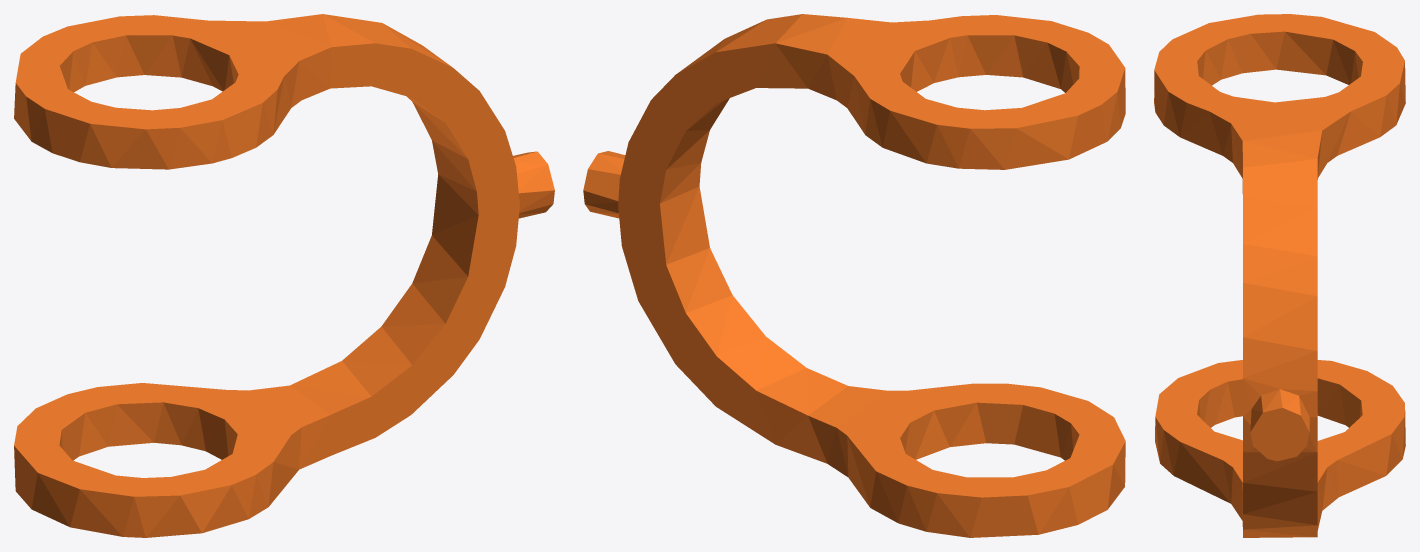
The model's file is fzz_Reduced.glb.
3 renders of one model, left to right at view 1: azimuth 30°, elevation 25°; view 2: azimuth 150°, elevation 25°; view 3: azimuth 270°, elevation 25°, orthographic. The views are drawn at different scales.
Parts seen in each view (by area): view 1: node_id3; view 2: node_id3; view 3: node_id3.
Boxes of the visible parts, x1,y1,x2,y2 form: node_id3: (14, 14, 554, 537); node_id3: (583, 14, 1125, 537); node_id3: (1154, 14, 1405, 537).
Size of the model in its own units: 0.512 by 0.3938 by 0.2362.
1 material, 1 textured.
